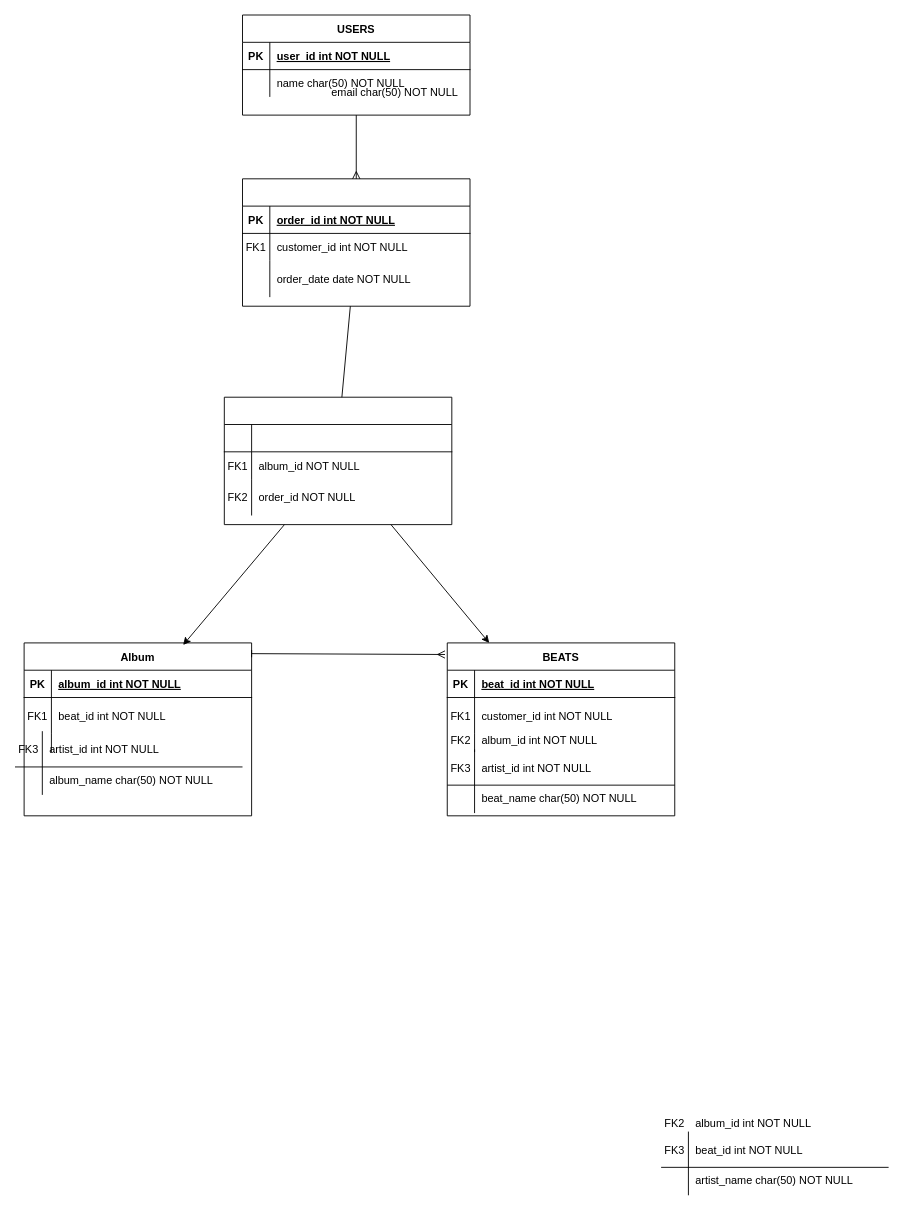
Image size: 904x1213. Some labels were removed from this diagram. The shapes that lost their labels are listed below. From the top down, each one's box as (x1, y1, x2, y2) in pixels, then its label:
(242, 178, 470, 306): ORDERS
(223, 396, 452, 525): order_album
